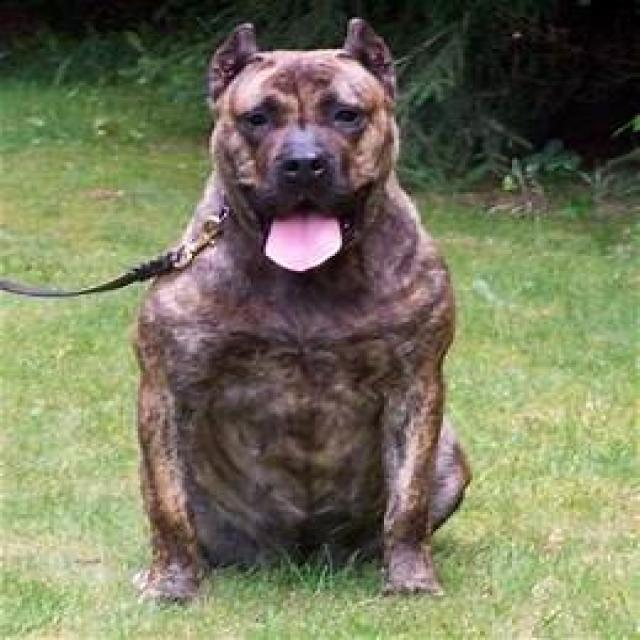dog: (0, 17, 473, 608)
